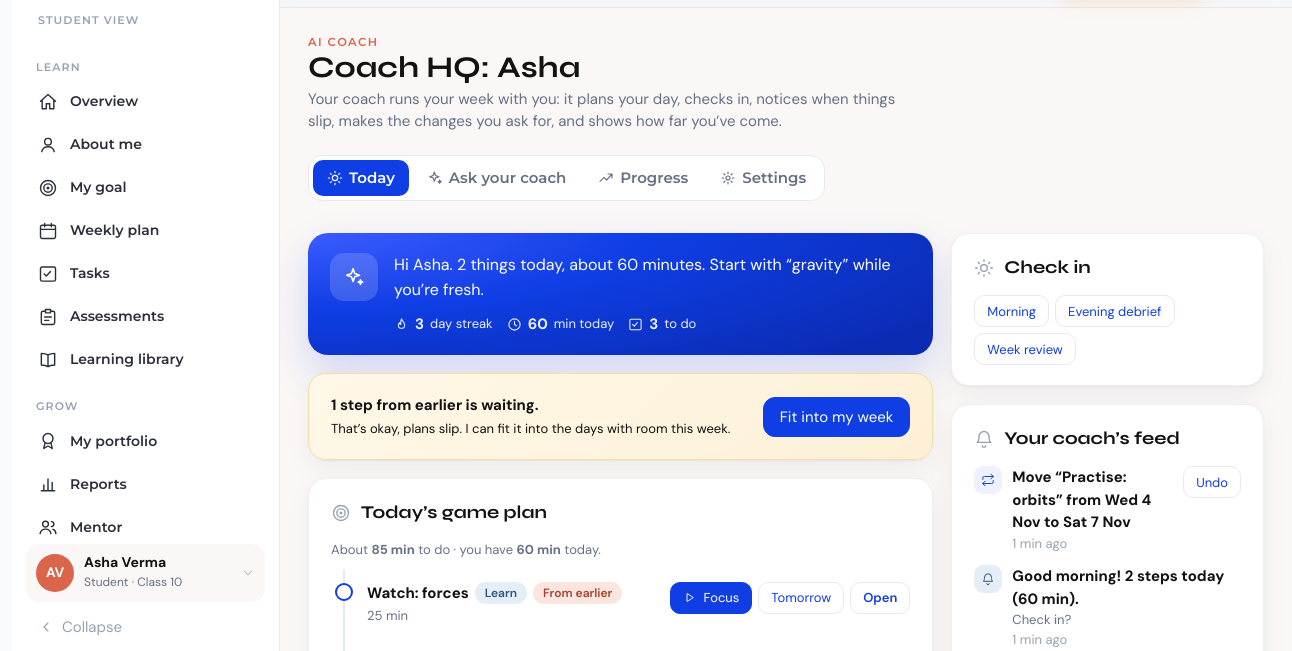
Test case: Coach HQ: Progress and Settings › progress shows the streak, the coach’s read, the path with a forecast, and topics
Click the tab "Progress" at (643, 178), box [584,160,702,196]
(page scrolled)
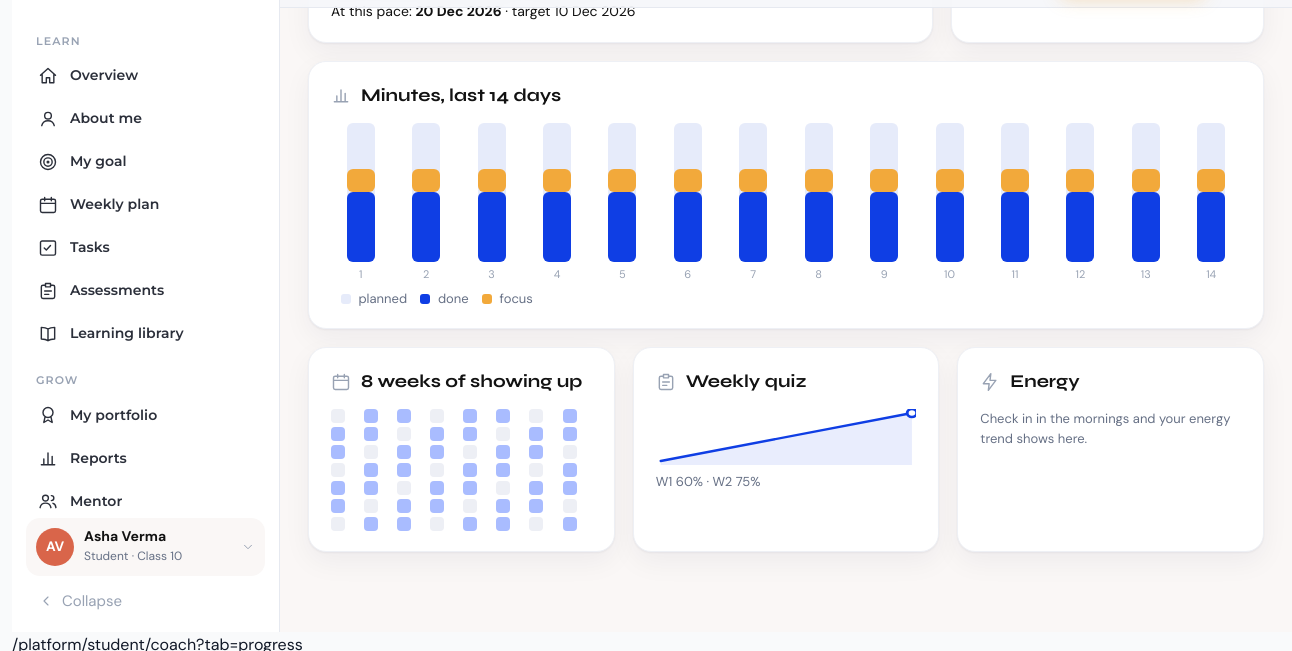
Expected: the text "W1 60% · W2 75%" is shown, [656,472,760,490]
